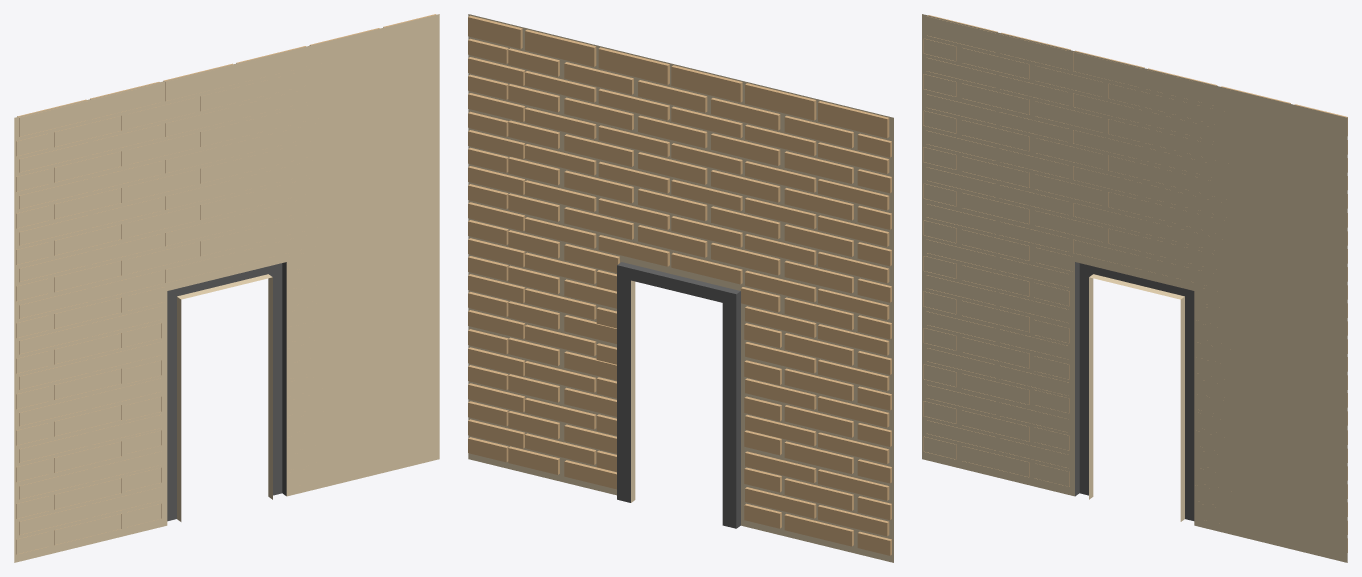
Rendered from BaksteenDeurframeEnkel01_LOD0.fbx.
The picture shows the model from 3 angles, left to right: view 1: azimuth 30°, elevation 25°; view 2: azimuth 150°, elevation 25°; view 3: azimuth 330°, elevation 25°; orthographic projection.
Parts seen in each view (by area): view 1: BaksteenDeurframeEnkel01_LOD0; view 2: BaksteenDeurframeEnkel01_LOD0; view 3: BaksteenDeurframeEnkel01_LOD0.
Boxes of the visible parts, box(x1,y1,x2,y2) form: BaksteenDeurframeEnkel01_LOD0: box(14, 14, 439, 562); BaksteenDeurframeEnkel01_LOD0: box(468, 14, 893, 562); BaksteenDeurframeEnkel01_LOD0: box(922, 14, 1347, 562).
Bounding box in the file's own units: 4 × 4 × 0.0744.
